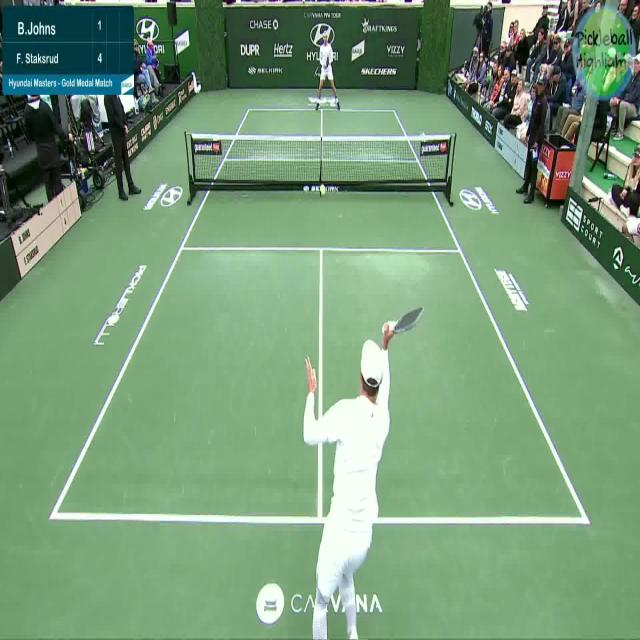ball: (319, 180, 326, 196)
